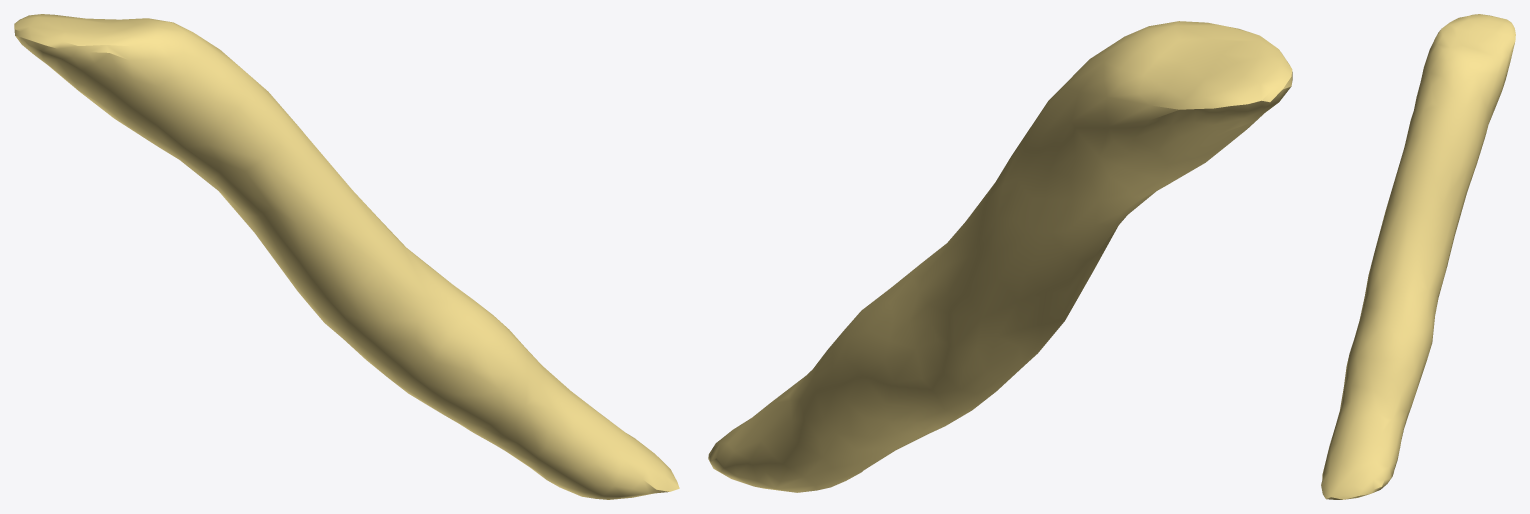
Rendered from fma61963-l_mm3001.glb.
3 renders of one model, left to right at view 1: azimuth 30°, elevation 25°; view 2: azimuth 150°, elevation 25°; view 3: azimuth 270°, elevation 25°, orthographic. The views are drawn at different scales.
Parts seen in each view (by area): view 1: FMA61963-L_MM3001; view 2: FMA61963-L_MM3001; view 3: FMA61963-L_MM3001.
Boxes of the visible parts, bbox=[...] form: FMA61963-L_MM3001: bbox=[14, 14, 679, 499]; FMA61963-L_MM3001: bbox=[708, 21, 1292, 492]; FMA61963-L_MM3001: bbox=[1321, 14, 1515, 499].
Bounding box in the file's own units: 0.00735 × 0.00652 × 0.00356.
